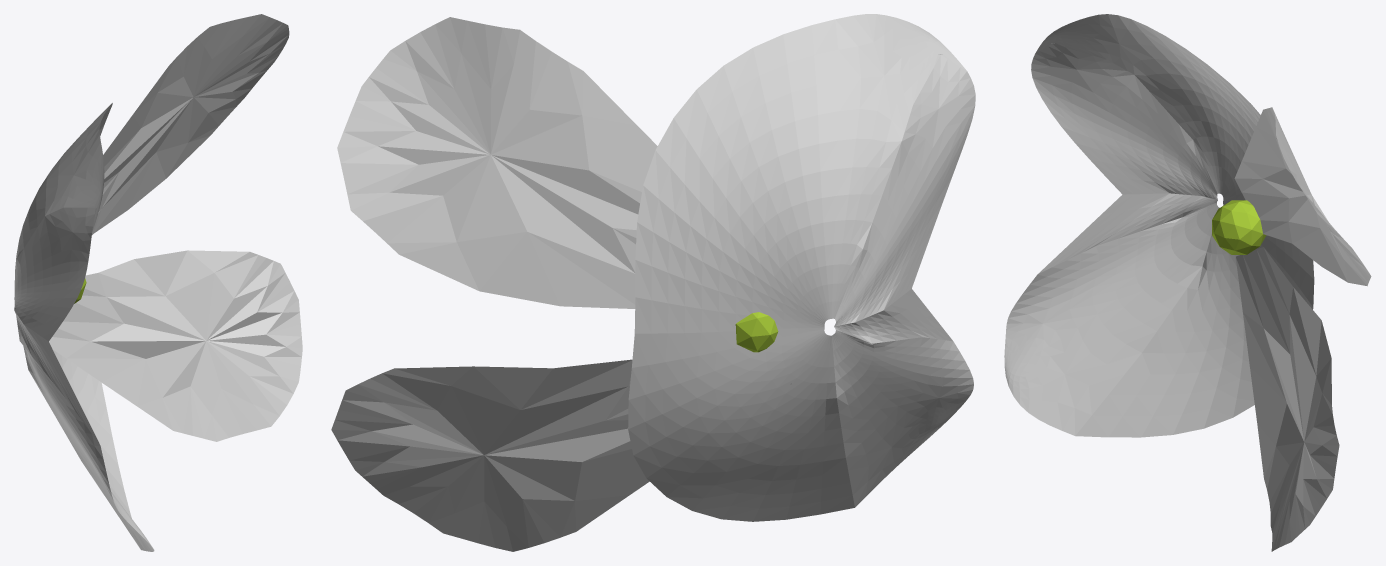
Rendered from BeanFlower.obj.
3 renders of one model, left to right at view 1: azimuth 30°, elevation 25°; view 2: azimuth 150°, elevation 25°; view 3: azimuth 270°, elevation 25°, orthographic. The views are drawn at different scales.
Visible parts, largest first — view 1: Plane.001, Circle, Plane.002; view 2: Circle, Plane.002, Plane.001, Icosphere; view 3: Circle, Plane.001, Plane.002, Icosphere.
Boxes of the visible parts, x1,y1,x2,y2 form: Plane.001: (49,250,302,441); Circle: (14,103,154,551); Plane.002: (91,14,289,235); Circle: (628,14,975,521); Plane.002: (337,17,657,308); Plane.001: (331,359,791,551); Icosphere: (735,312,778,352); Circle: (1004,14,1314,437); Plane.001: (1236,247,1339,551); Plane.002: (1234,107,1371,286); Icosphere: (1212,200,1266,254).
Size of the model in its own units: 0.9332 by 1.03 by 0.8217.
